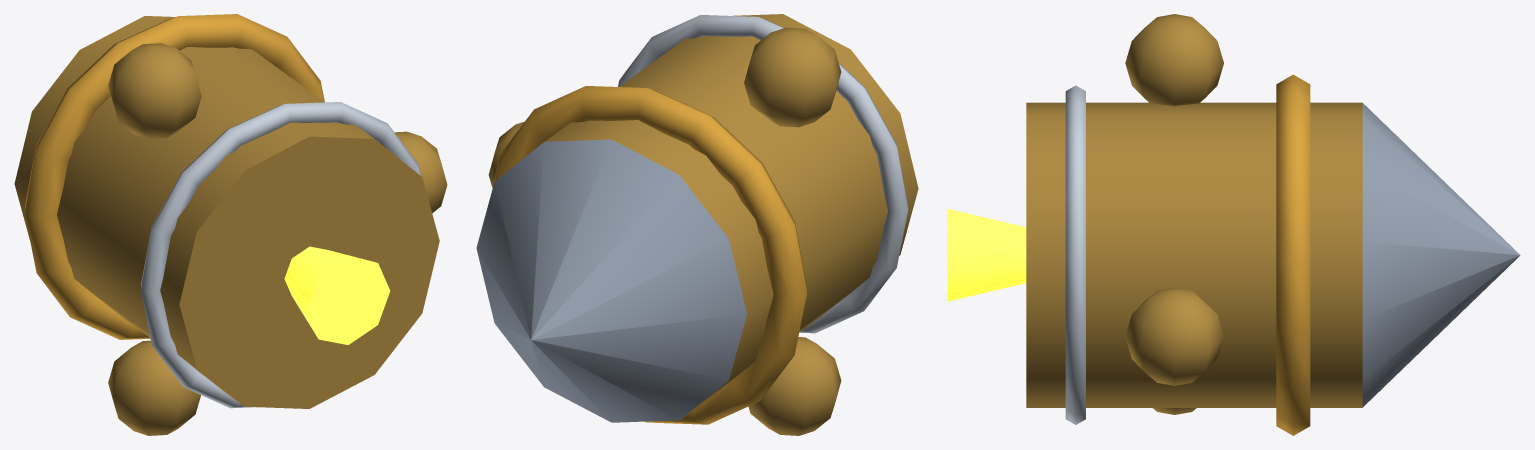
File: proj_nova_shell_t3.glb
3 views of the same model, side by side, from view 1: azimuth 30°, elevation 25°; view 2: azimuth 150°, elevation 25°; view 3: azimuth 270°, elevation 25° (orthographic). The views are drawn at different scales.
Visible parts, largest first — view 1: proj_nova_shell_t3_body, proj_nova_shell_t3_burn_band, proj_nova_shell_t3_band, proj_nova_shell_t3_fuse, proj_nova_shell_t3_bomblet1, proj_nova_shell_t3_bomblet2, proj_nova_shell_t3_bomblet0; view 2: proj_nova_shell_t3_nose, proj_nova_shell_t3_body, proj_nova_shell_t3_burn_band, proj_nova_shell_t3_band, proj_nova_shell_t3_bomblet1, proj_nova_shell_t3_bomblet2, proj_nova_shell_t3_bomblet0; view 3: proj_nova_shell_t3_body, proj_nova_shell_t3_nose, proj_nova_shell_t3_burn_band, proj_nova_shell_t3_bomblet0, proj_nova_shell_t3_band, proj_nova_shell_t3_bomblet1, proj_nova_shell_t3_fuse.
Part boxes in pixels (box(x1,y1,x2,y2)): proj_nova_shell_t3_body: box(14, 16, 439, 408); proj_nova_shell_t3_burn_band: box(25, 14, 324, 339); proj_nova_shell_t3_band: box(141, 102, 420, 408); proj_nova_shell_t3_fuse: box(284, 246, 390, 344); proj_nova_shell_t3_bomblet1: box(108, 43, 201, 138); proj_nova_shell_t3_bomblet2: box(108, 340, 200, 435); proj_nova_shell_t3_bomblet0: box(394, 131, 447, 212); proj_nova_shell_t3_nose: box(476, 139, 746, 422); proj_nova_shell_t3_body: box(544, 14, 918, 418); proj_nova_shell_t3_burn_band: box(493, 86, 806, 424); proj_nova_shell_t3_band: box(618, 15, 908, 333); proj_nova_shell_t3_bomblet1: box(744, 27, 841, 127); proj_nova_shell_t3_bomblet2: box(748, 337, 841, 435); proj_nova_shell_t3_bomblet0: box(488, 121, 524, 187); proj_nova_shell_t3_body: box(1026, 102, 1362, 407); proj_nova_shell_t3_nose: box(1362, 103, 1520, 407); proj_nova_shell_t3_burn_band: box(1276, 74, 1310, 435); proj_nova_shell_t3_bomblet0: box(1125, 287, 1223, 385); proj_nova_shell_t3_band: box(1065, 85, 1085, 424); proj_nova_shell_t3_bomblet1: box(1125, 14, 1223, 105); proj_nova_shell_t3_fuse: box(947, 209, 1026, 301).
Bounding box in the file's own units: 0.428 × 0.4377 × 0.58.
